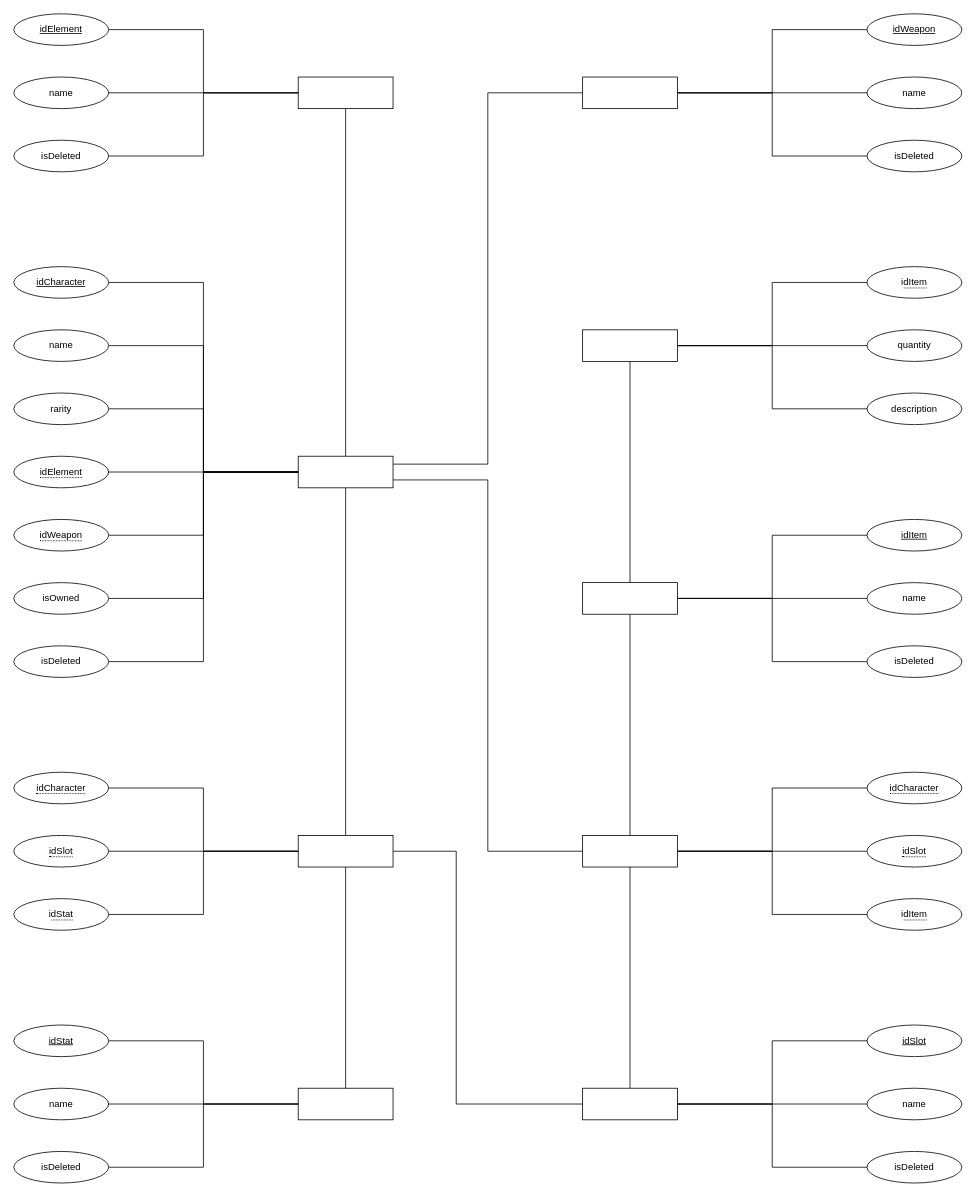
Some shapes in this 976 by 1197 pixel diagram are drawn without their labels. The centre of each missing label's shape, as x and y in pixels:
Character: (345,471)
CharacterItem: (629,851)
CharacterStat: (345,851)
Element: (345,92)
Item: (629,598)
ItemsSet: (629,345)
Slot: (629,1103)
Stat: (345,1103)
Weapon: (629,92)
